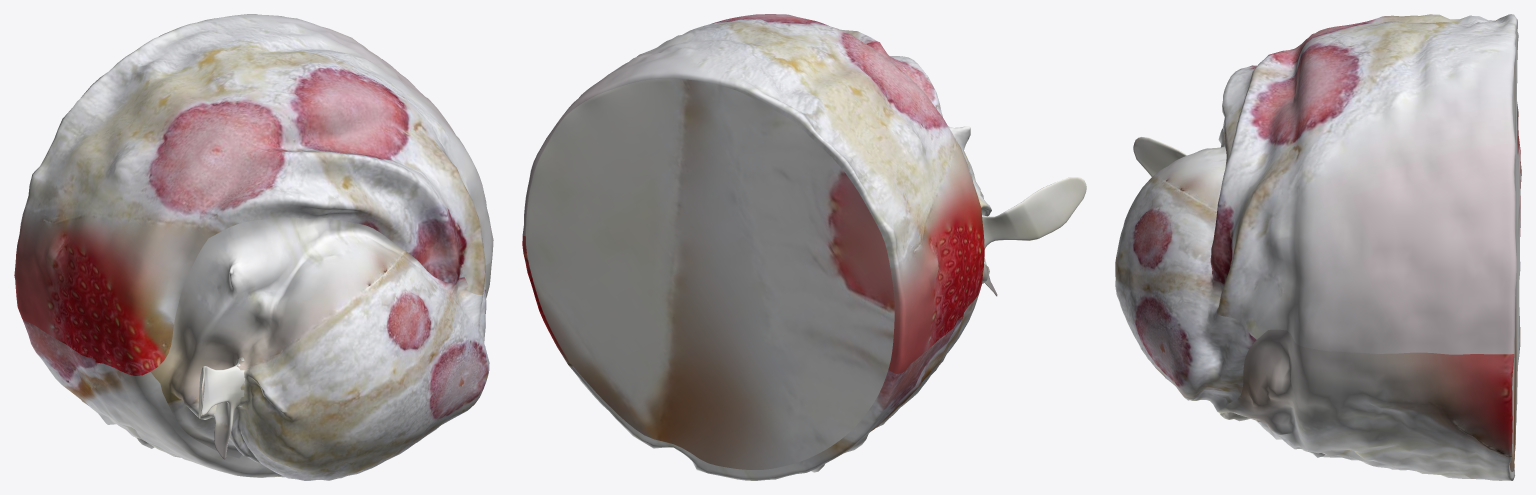
3 renders of one model, left to right at view 1: azimuth 30°, elevation 25°; view 2: azimuth 150°, elevation 25°; view 3: azimuth 270°, elevation 25°, orthographic. The views are drawn at different scales.
Bounding box in the file's own units: 1 × 0.9886 × 0.859.
